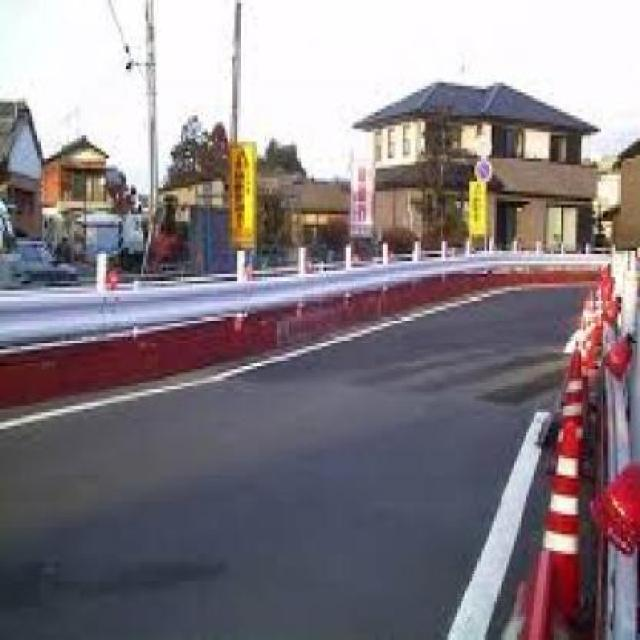Guard rail: (1, 238, 612, 356)
